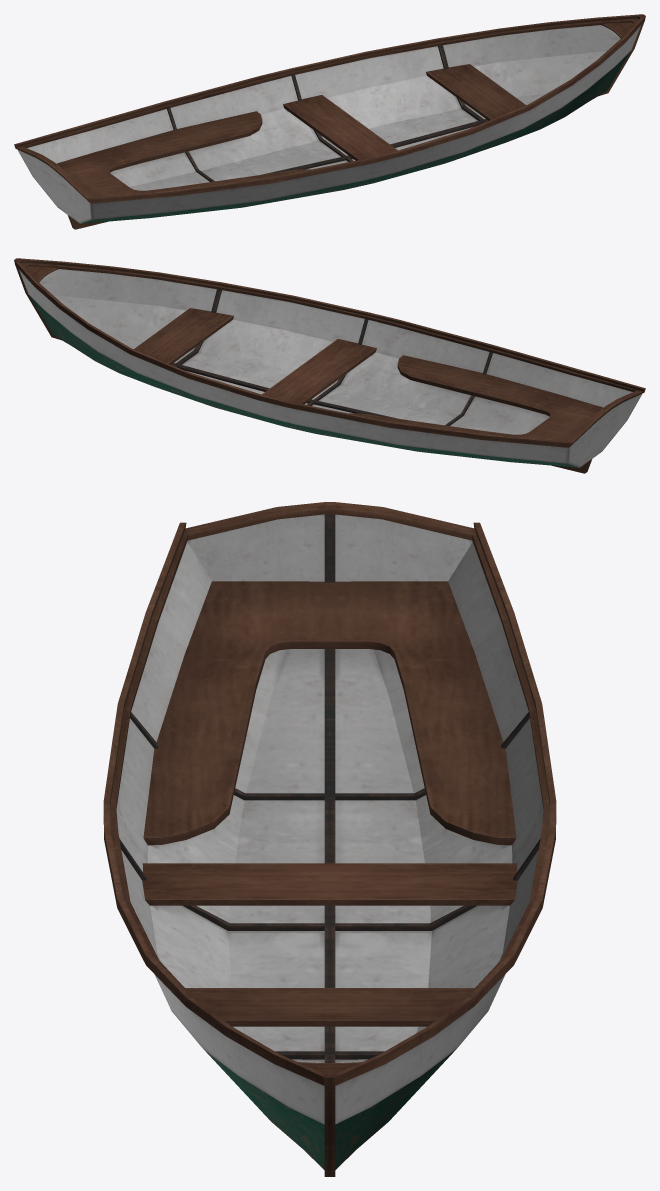
The model's file is barque.glb.
The picture shows the model from 3 angles, top to bottom: view 1: azimuth 30°, elevation 25°; view 2: azimuth 150°, elevation 25°; view 3: azimuth 270°, elevation 25°; orthographic projection. The views are drawn at different scales.
Visible parts, largest first — view 1: barque; view 2: barque; view 3: barque.
Boxes of the visible parts, left/top/right/bottom form: barque: left=14, top=14, right=645, bottom=229; barque: left=14, top=258, right=645, bottom=473; barque: left=103, top=502, right=556, bottom=1176.
Bounding box in the file's own units: 4.7 × 0.5894 × 1.55.
1 material, 1 textured.
